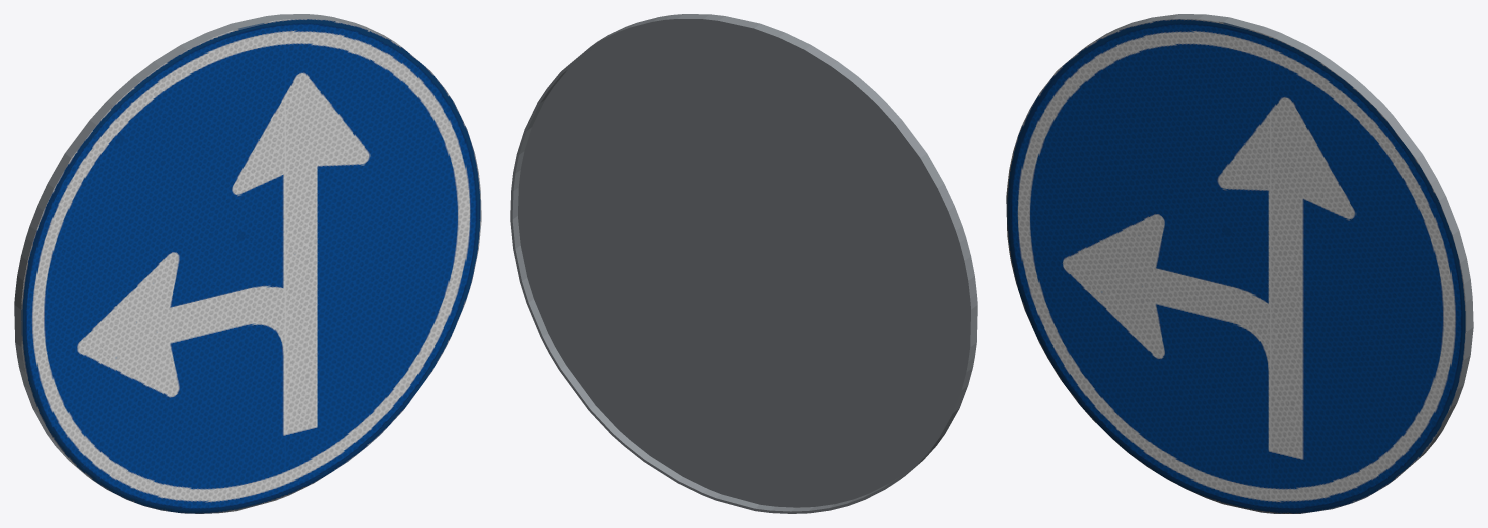
3 views of the same model, side by side, from view 1: azimuth 30°, elevation 25°; view 2: azimuth 150°, elevation 25°; view 3: azimuth 330°, elevation 25° (orthographic).
Parts seen in each view (by area): view 1: cat_62d18f9b5db826c0; view 2: cat_62d18f9b5db826c0; view 3: cat_62d18f9b5db826c0.
Boxes of the visible parts, x1,y1,x2,y2 form: cat_62d18f9b5db826c0: (14, 14, 481, 513); cat_62d18f9b5db826c0: (510, 14, 977, 513); cat_62d18f9b5db826c0: (1006, 14, 1473, 513).
Bounding box in the file's own units: 0.6 × 0.015 × 0.6.
2 materials, 1 textured.
